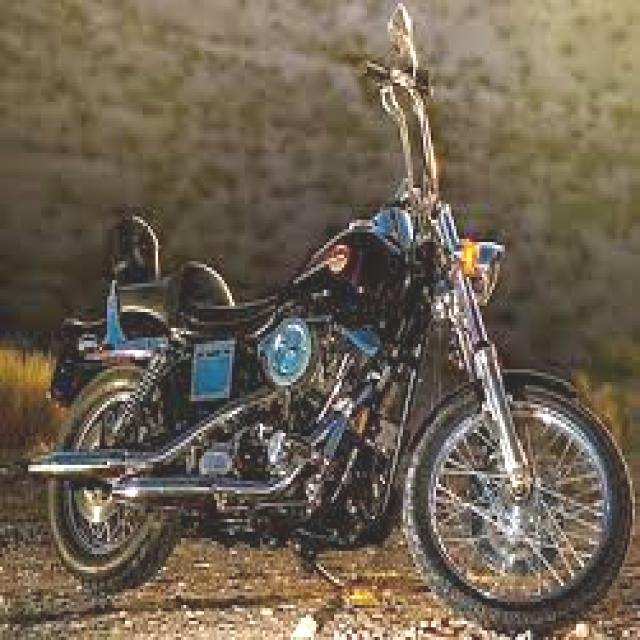MOTORCYCLE: (15, 0, 629, 611)
